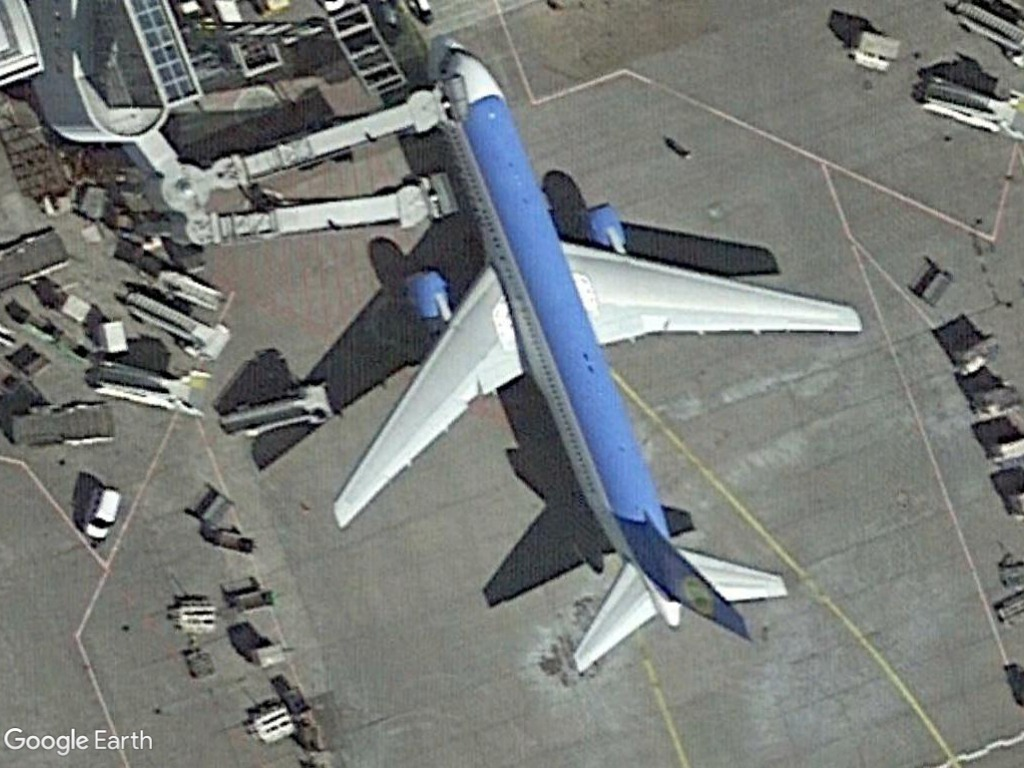airliner: (310, 25, 862, 680)
stairtruck: (91, 356, 216, 421), (118, 289, 233, 359), (218, 378, 333, 442)
van: (79, 481, 124, 543)
